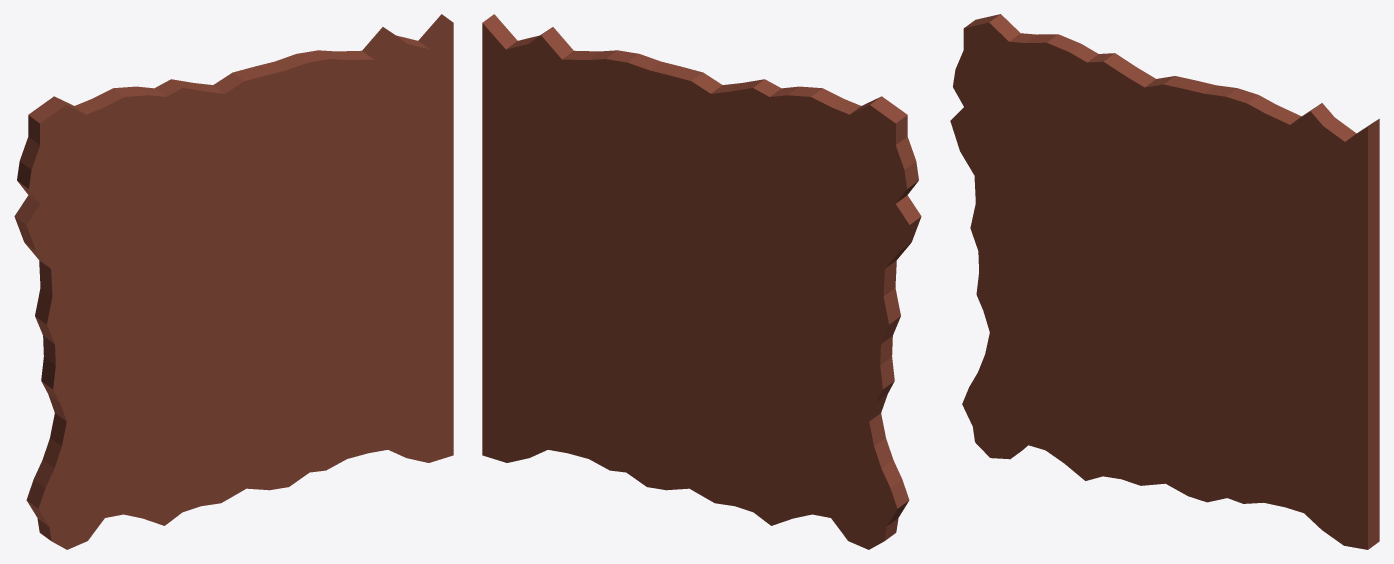
Rendered from tile13.001.glb.
The picture shows the model from 3 angles, left to right: view 1: azimuth 30°, elevation 25°; view 2: azimuth 150°, elevation 25°; view 3: azimuth 330°, elevation 25°; orthographic projection. The views are drawn at different scales.
Visible parts, largest first — view 1: 13.001; view 2: 13.001; view 3: 13.001.
Boxes of the visible parts, x1,y1,x2,y2 form: 13.001: (14, 14, 453, 549); 13.001: (482, 14, 921, 549); 13.001: (950, 14, 1379, 549).
Size of the model in its own units: 2.07 by 2.06 by 0.1.
Materials: 1 (1 with a texture image).
